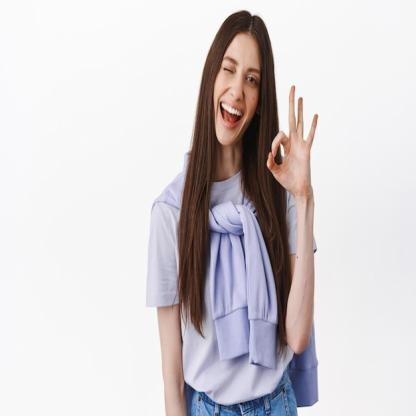ok: (266, 82, 320, 199)
